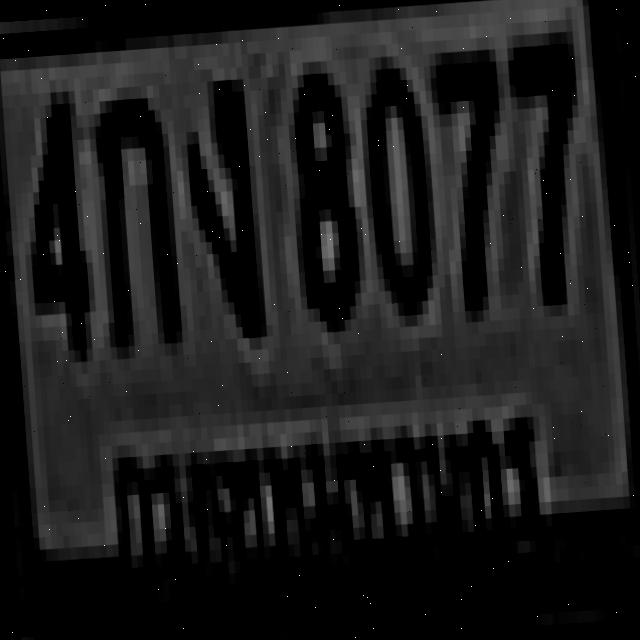0: (356, 54, 434, 304)
10GorGai: (87, 91, 176, 341)
16NgorNgu: (176, 66, 260, 330)
4: (17, 90, 89, 352)
7: (428, 36, 507, 312), (506, 25, 584, 300)
8: (284, 60, 356, 322)
Bangkok: (92, 376, 552, 582)
